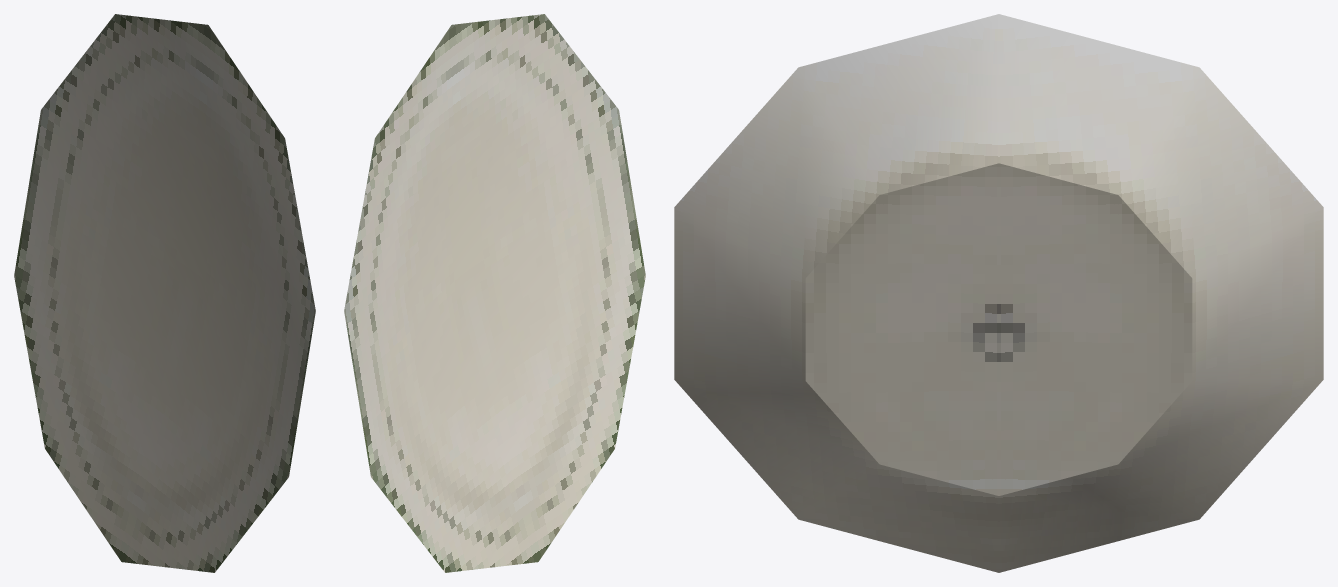
File: Dish001.glb
3 renders of one model, left to right at view 1: azimuth 30°, elevation 25°; view 2: azimuth 150°, elevation 25°; view 3: azimuth 270°, elevation 25°, orthographic. The views are drawn at different scales.
Visible parts, largest first — view 1: dish.001; view 2: dish.001; view 3: dish.001.
Part boxes in pixels (x1,y1,x2,y2): dish.001: (14, 14, 315, 572); dish.001: (344, 14, 645, 572); dish.001: (674, 14, 1323, 572).
Bounding box in the file's own units: 0.062 × 0.2659 × 0.2568.
Materials: 1 (1 with a texture image).
